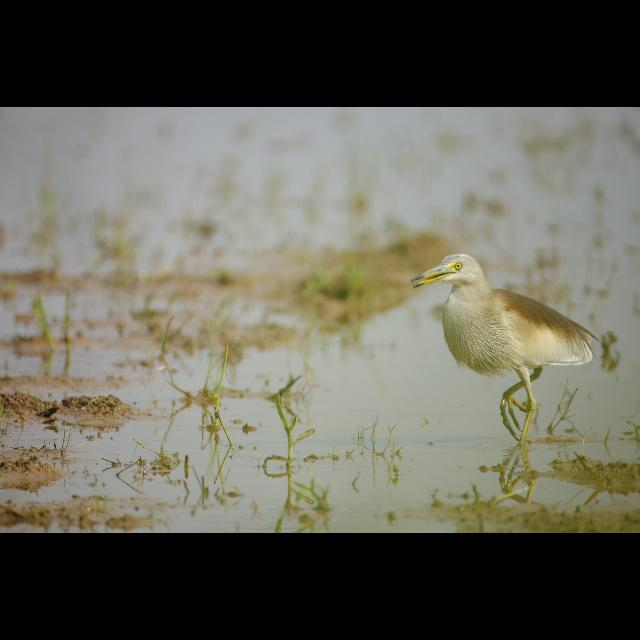heron: (408, 252, 594, 440)
